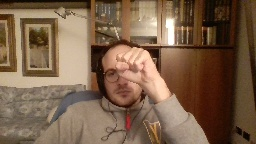Pugno: (112, 45, 158, 87)
